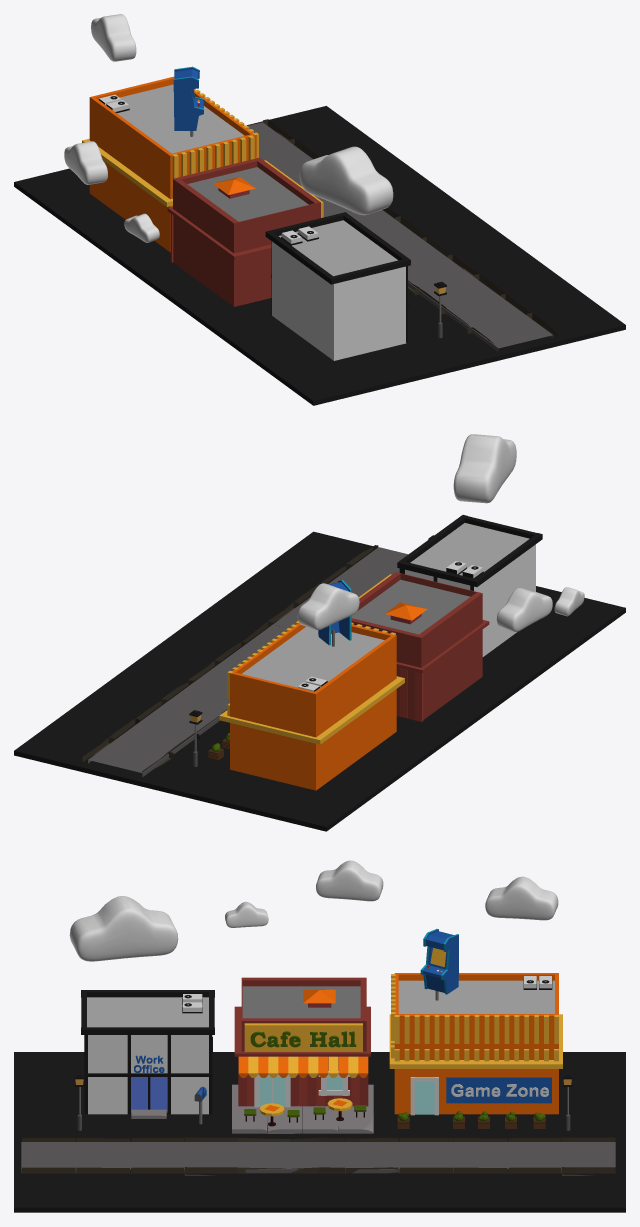
File: street_2.fbx
The picture shows the model from 3 angles, top to bottom: view 1: azimuth 30°, elevation 25°; view 2: azimuth 150°, elevation 25°; view 3: azimuth 270°, elevation 25°; orthographic projection. The views are drawn at different scales.
Visible parts, largest first — view 1: road 1, game zone, work office, cafe, road, cloud 1.001, cloud 4, cloud 3.001, cloud 2.001; view 2: road 1, game zone, cafe, road, work office, cloud 1.001, cloud 4, cloud 3.001, cloud 2.001; view 3: road 1, game zone, road, cafe, work office, cloud 1.001, cloud 4, cloud 3.001, cloud 2.001, light box.
Boxes of the visible parts, x1,y1,x2,y2 form: road 1: (14,106,625,405); game zone: (82,66,258,252); work office: (265,212,410,360); cafe: (167,157,323,306); road: (248,119,558,351); cloud 1.001: (299,146,393,215); cloud 4: (91,14,136,61); cloud 3.001: (64,141,107,184); cloud 2.001: (124,213,159,242); road 1: (14,531,625,831); game zone: (208,580,404,790); cafe: (351,572,489,721); road: (82,545,407,776); work office: (397,515,542,656); cloud 1.001: (453,434,516,503); cloud 4: (297,583,359,630); cloud 3.001: (496,588,552,631); cloud 2.001: (554,587,584,616); road 1: (14,1052,625,1212); game zone: (389,929,562,1128); road: (21,1137,615,1175); cafe: (232,977,373,1133); work office: (81,990,214,1124); cloud 1.001: (69,896,178,961); cloud 4: (485,876,558,920); cloud 3.001: (316,860,383,901); cloud 2.001: (225,901,268,927); light box: (74,1073,572,1130).
Bounding box in the file's own units: 4789 × 2304 × 6377.
